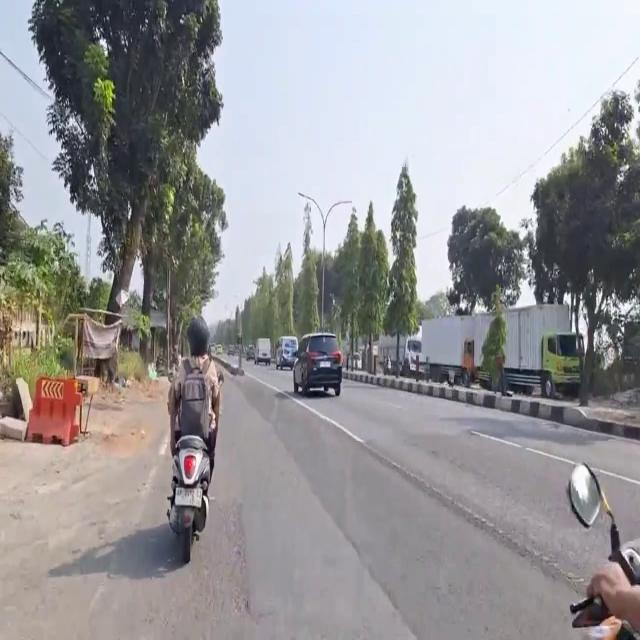WithHelmet: (166, 316, 223, 487)
